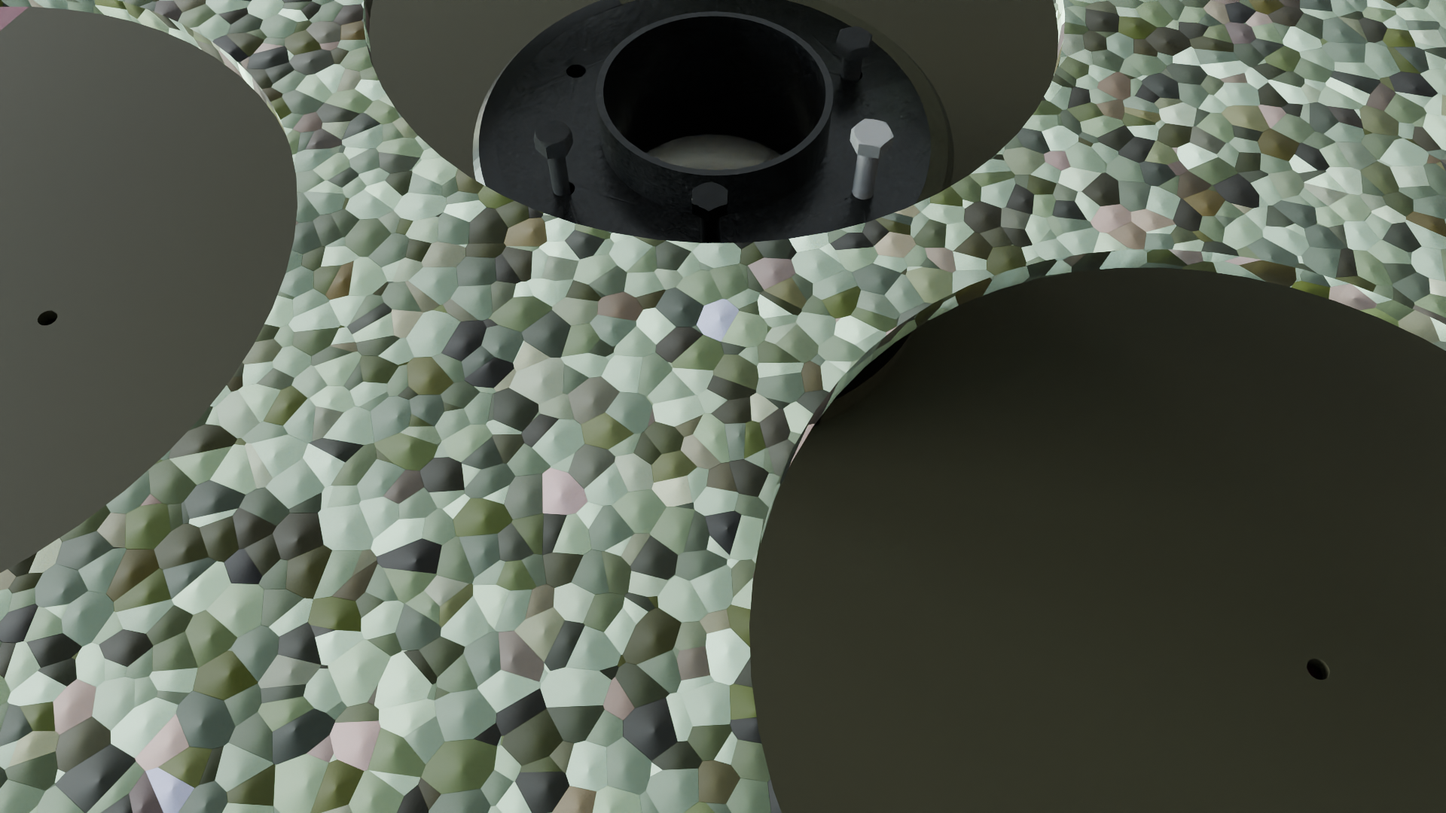bolt: (852, 119, 894, 148), (691, 181, 728, 212), (533, 120, 572, 148), (837, 26, 872, 50)
